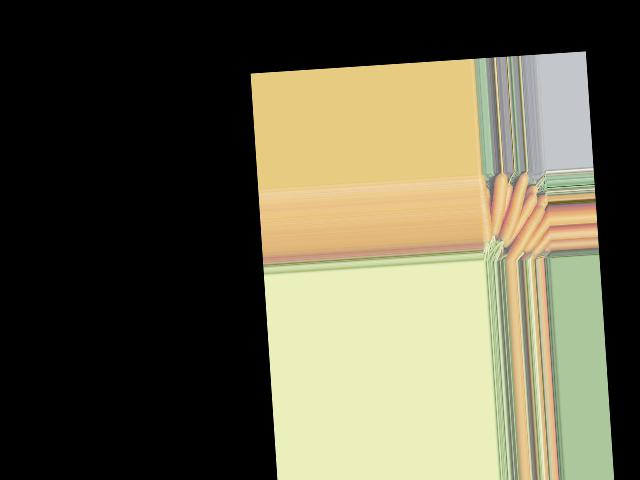carrot: (502, 204, 549, 260)
